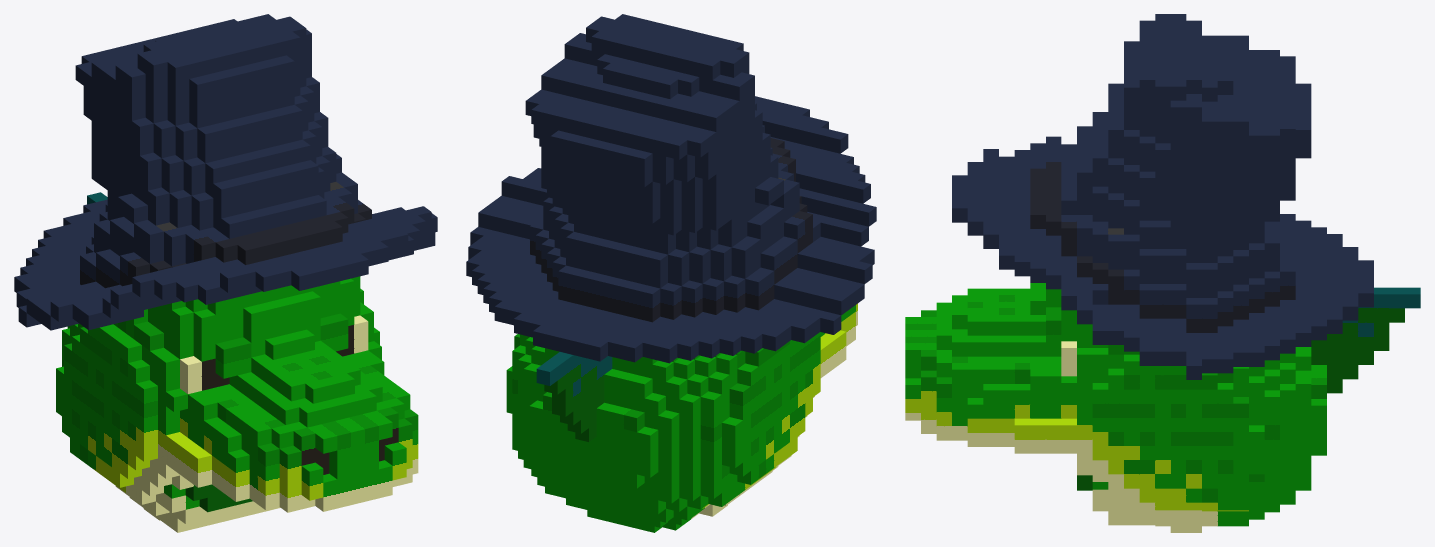
The model's file is top hat_vr goggles.gltf.
3 renders of one model, left to right at view 1: azimuth 30°, elevation 25°; view 2: azimuth 150°, elevation 25°; view 3: azimuth 270°, elevation 25°, orthographic. The views are drawn at different scales.
Parts seen in each view (by area): view 1: C55_H_TopH_VRGg-Mesh; view 2: C55_H_TopH_VRGg-Mesh; view 3: C55_H_TopH_VRGg-Mesh.
Boxes of the visible parts, box(x1,y1,x2,y2) form: C55_H_TopH_VRGg-Mesh: box(14, 14, 437, 532); C55_H_TopH_VRGg-Mesh: box(466, 14, 876, 532); C55_H_TopH_VRGg-Mesh: box(905, 14, 1420, 532).
Bounding box in the file's own units: 27 × 32 × 33.
Materials: 1 (1 with a texture image).
